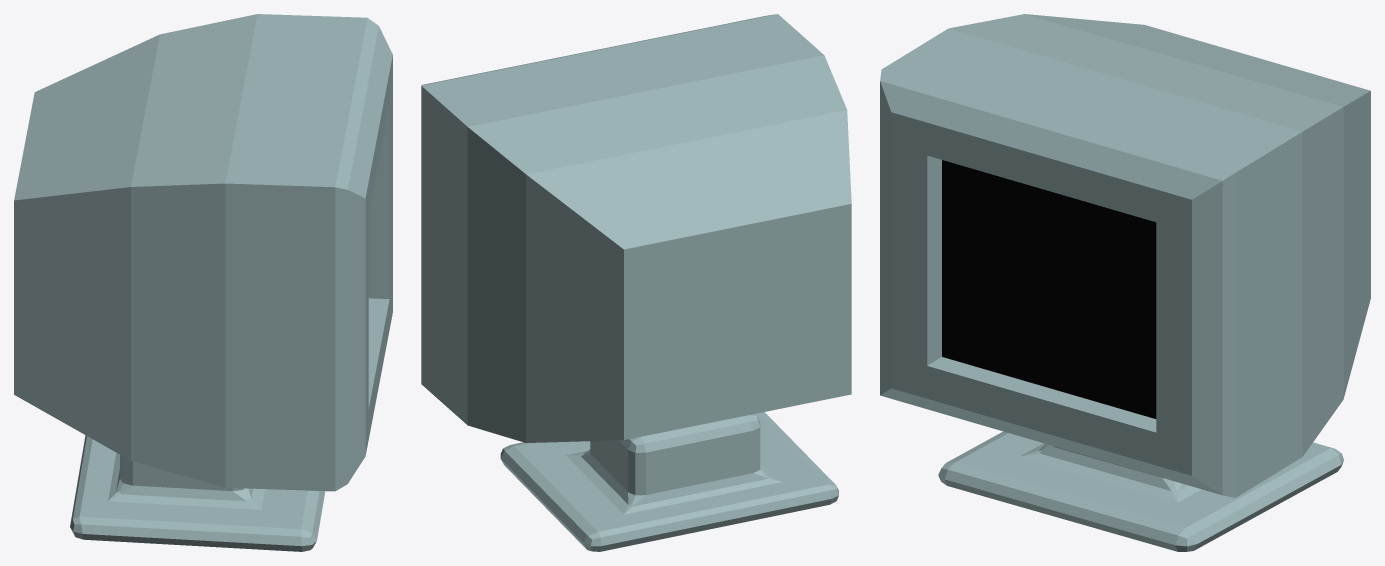
The model's file is old_screen.fbx.
The picture shows the model from 3 angles, left to right: view 1: azimuth 30°, elevation 25°; view 2: azimuth 150°, elevation 25°; view 3: azimuth 270°, elevation 25°; orthographic projection. The views are drawn at different scales.
Parts seen in each view (by area): view 1: Cube.031; view 2: Cube.031; view 3: Cube.031.
Part boxes in pixels (<box>): Cube.031: <box>14,14,392,551</box>; Cube.031: <box>421,14,851,551</box>; Cube.031: <box>880,14,1370,551</box>.
Bounding box in the file's own units: 142 × 132 × 141.
